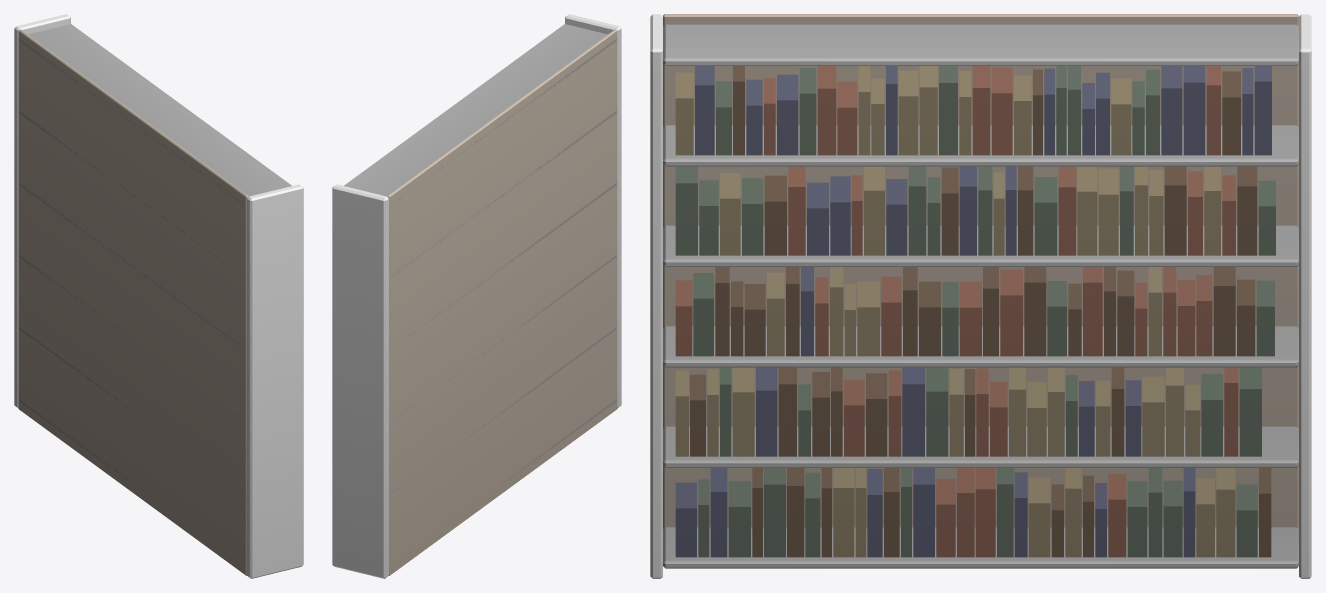
The model's file is bookcase_lab.glb.
3 views of the same model, side by side, from view 1: azimuth 30°, elevation 25°; view 2: azimuth 150°, elevation 25°; view 3: azimuth 270°, elevation 25° (orthographic). The views are drawn at different scales.
Visible parts, largest first — view 1: book; view 2: book; view 3: book.
Boxes of the visible parts, box(x1,y1,x2,y2) form: book: box(14, 14, 303, 578); book: box(332, 14, 621, 578); book: box(650, 14, 1311, 578).
Bounding box in the file's own units: 0.34 × 2.3 × 2.6.
